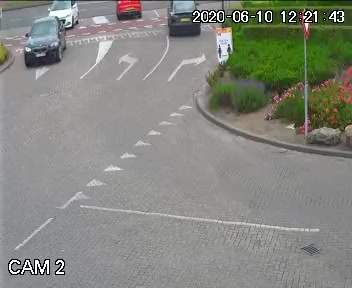car: (28, 18, 69, 67), (166, 2, 203, 40), (46, 0, 79, 28), (110, 0, 144, 24)
